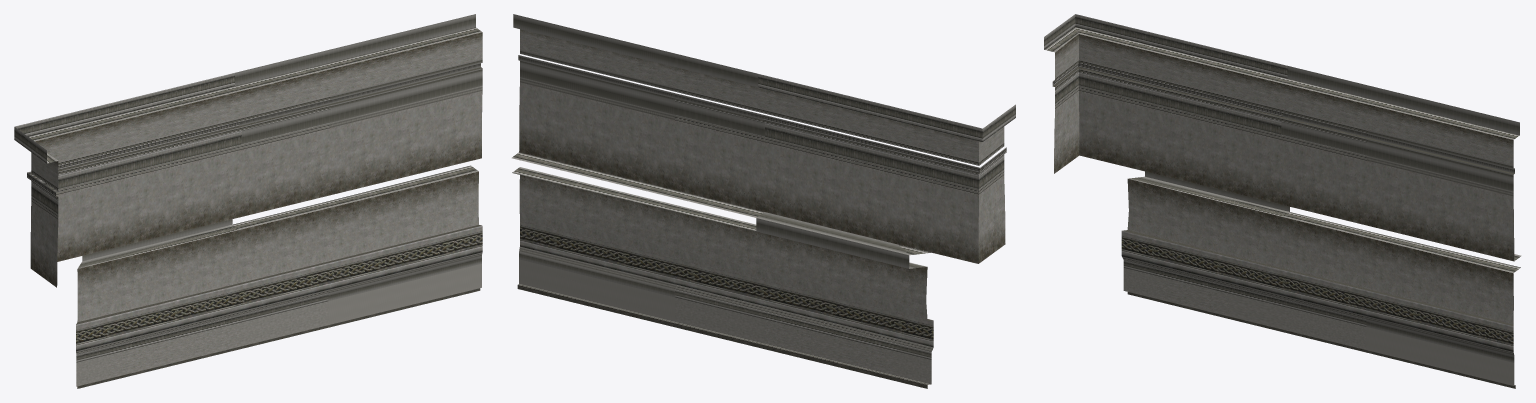
Rendered from DWARF_PALACE_FORGE_BACKWALL.fbx.
The picture shows the model from 3 angles, left to right: view 1: azimuth 30°, elevation 25°; view 2: azimuth 150°, elevation 25°; view 3: azimuth 330°, elevation 25°; orthographic projection. The views are drawn at different scales.
Visible parts, largest first — view 1: DWARF_PALACE_FORGE_BACKWALL; view 2: DWARF_PALACE_FORGE_BACKWALL; view 3: DWARF_PALACE_FORGE_BACKWALL.
Part boxes in pixels (bbox=[...]): DWARF_PALACE_FORGE_BACKWALL: bbox=[14, 14, 482, 388]; DWARF_PALACE_FORGE_BACKWALL: bbox=[511, 14, 1015, 388]; DWARF_PALACE_FORGE_BACKWALL: bbox=[1044, 14, 1521, 388].
Size of the model in its own units: 362071 by 205000 by 48536.
7 materials, 7 textured.
